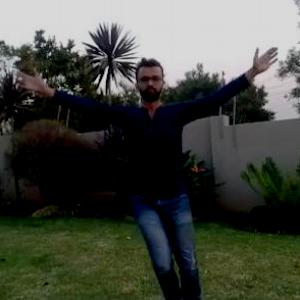takeoff: (7, 54, 262, 288)
